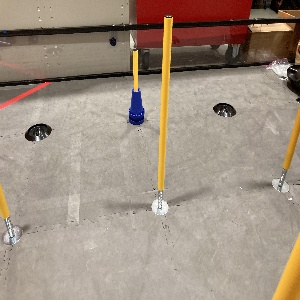Blue_2: (127, 87, 145, 123)
